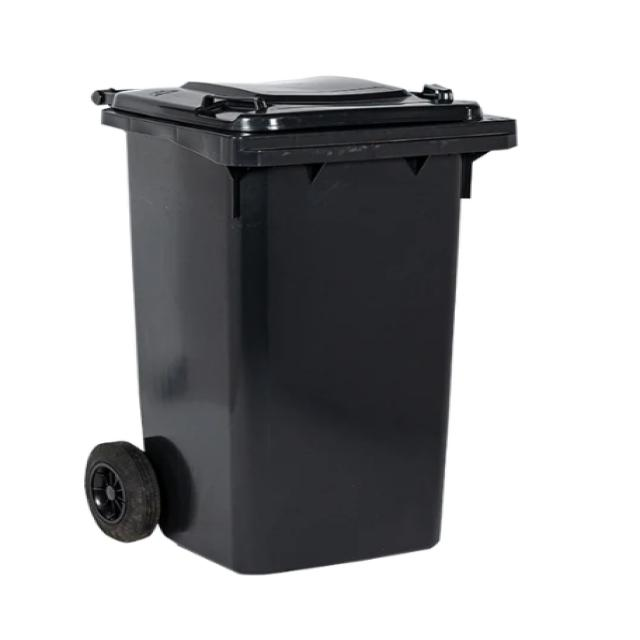garbage container: (74, 59, 529, 585)
